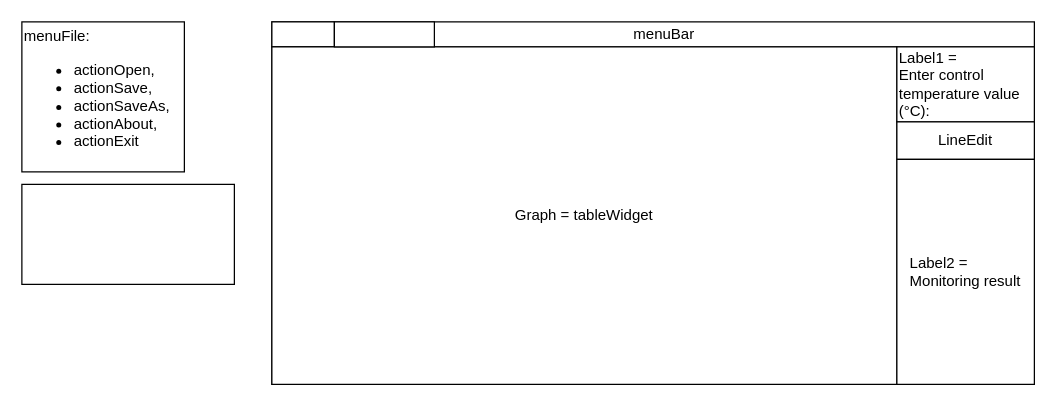
This 1058x406 diagram has some shape labels left out. The shapes that lost their labels are listed below. From the top down, each one's centre as x and y in pixels, then its label:
At (x=302, y=34): "File".
At (x=383, y=34): "Functions".
At (x=127, y=233): "menuGrahp: actionCreateGraph, actionSaveScheduleAs".
